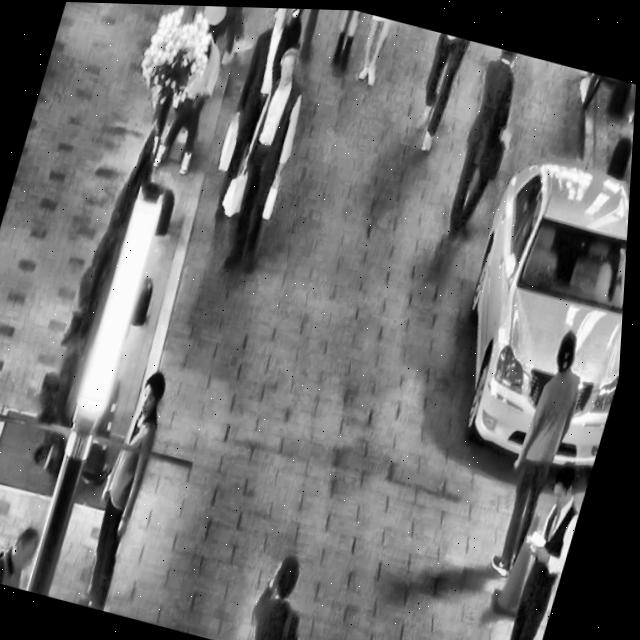light_vehicle: (425, 123, 635, 478)
